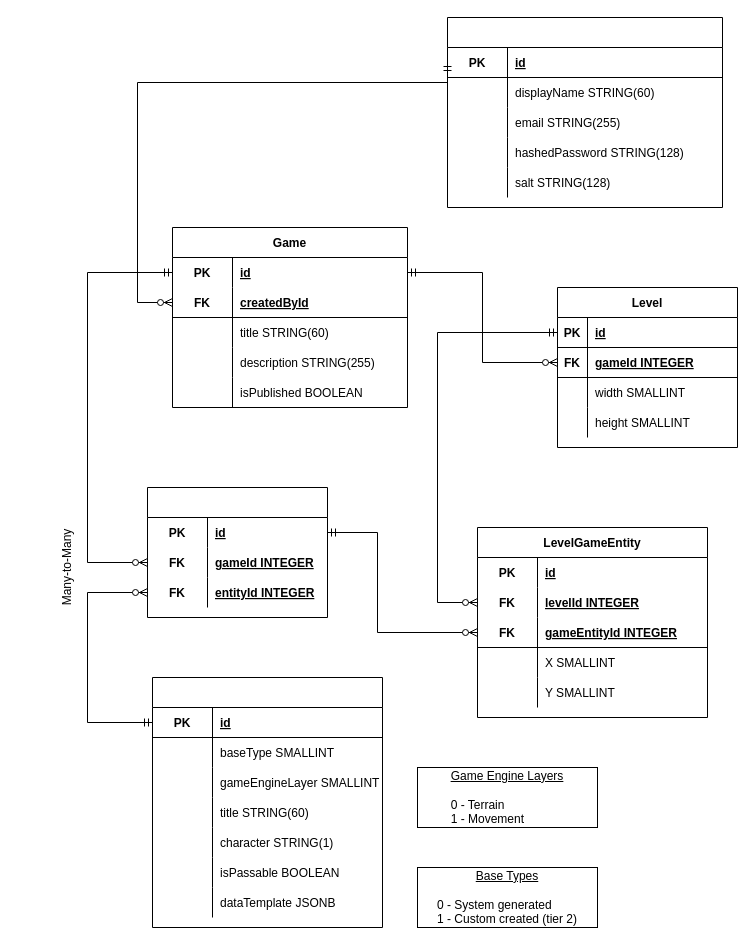
Some shapes in this 755 by 945 pixel diagram are drawn without their labels. The box of each missing label's shape, as (x1, y1, x2, y2) in pixels:
Entity: (152, 676, 382, 928)
GameEntity: (146, 486, 328, 618)
User: (446, 16, 722, 208)
